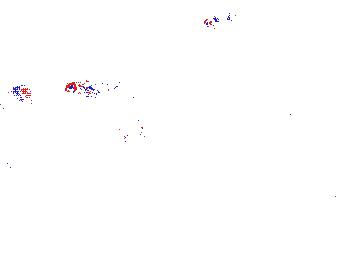X-ray fish: (94, 139, 106, 158)
red belly glassfish: (65, 79, 114, 97), (205, 13, 233, 29)
redtail glassfish: (225, 107, 296, 133), (115, 109, 144, 140)
